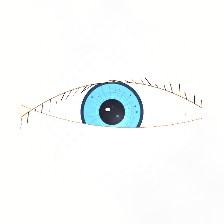pinguecula_lesion: (47, 96, 77, 120)
